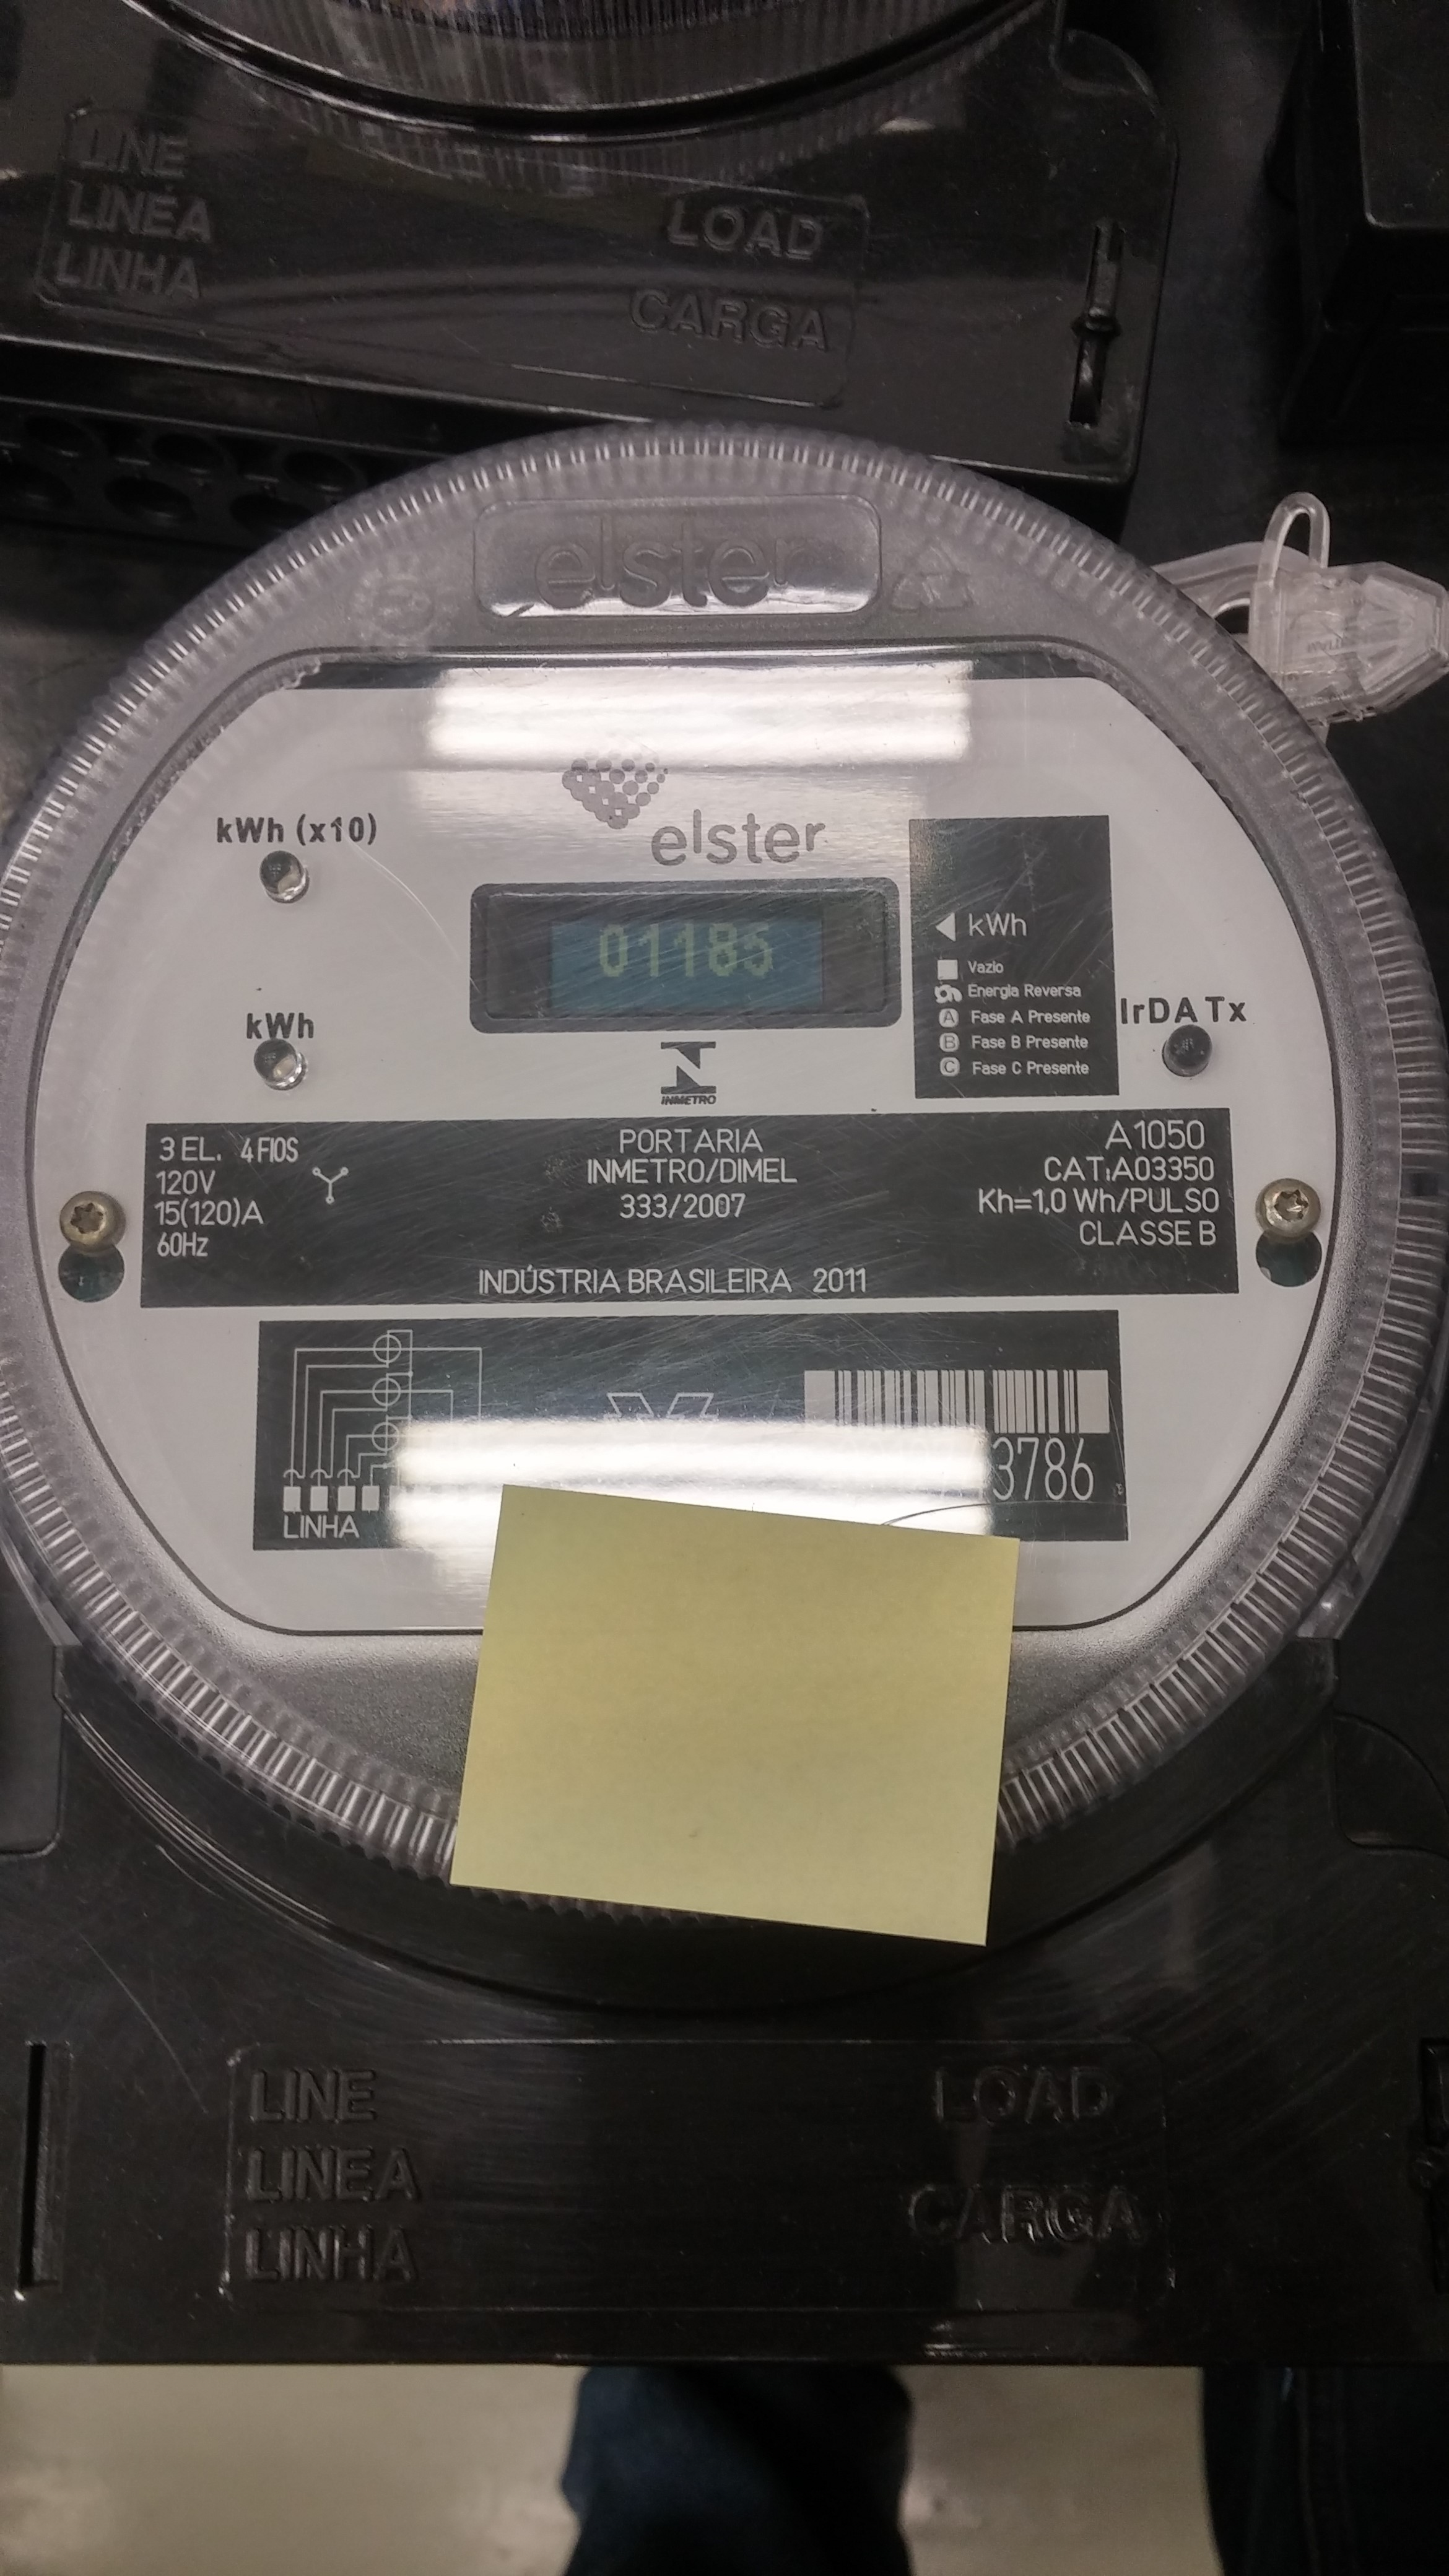counter: (464, 872, 908, 1030)
